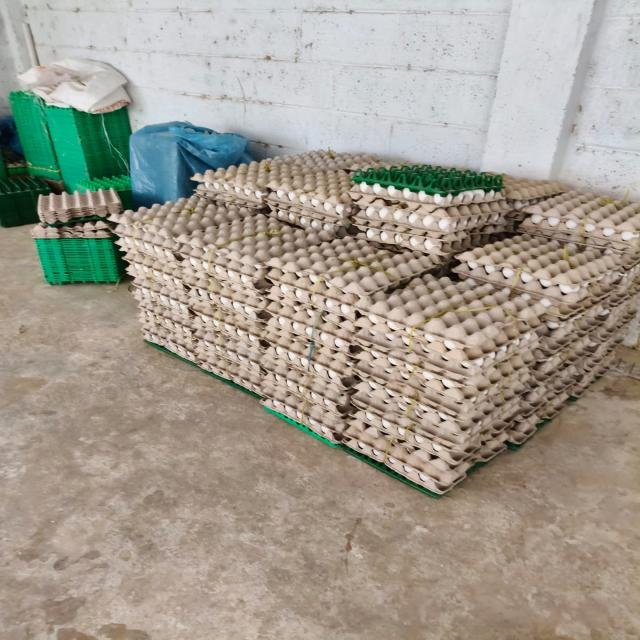egg_tray: (265, 240, 401, 441), (267, 240, 430, 388), (261, 241, 366, 441), (185, 229, 305, 392), (343, 390, 534, 492), (123, 215, 309, 317), (115, 197, 246, 326), (354, 350, 529, 443), (356, 278, 543, 361), (261, 280, 354, 442), (140, 276, 263, 392), (521, 296, 636, 420), (521, 298, 636, 421), (261, 289, 353, 441), (347, 392, 518, 472), (134, 286, 263, 392), (183, 226, 324, 320), (268, 237, 435, 311), (454, 234, 630, 303), (350, 176, 565, 232), (353, 378, 527, 447), (354, 399, 539, 463), (530, 286, 636, 396), (342, 423, 506, 494), (354, 328, 539, 389), (200, 227, 321, 319), (353, 332, 540, 391), (344, 420, 506, 488), (352, 385, 520, 450), (354, 390, 518, 456), (191, 150, 376, 208), (180, 225, 321, 300), (356, 347, 534, 406), (458, 235, 628, 295), (128, 260, 262, 330), (267, 283, 354, 390), (350, 398, 491, 464), (119, 237, 194, 360), (356, 367, 530, 420), (109, 196, 250, 261), (127, 254, 261, 322), (143, 318, 262, 394), (353, 198, 508, 256), (342, 425, 470, 494), (185, 214, 331, 274), (267, 237, 395, 305), (261, 346, 352, 441), (191, 277, 265, 393), (503, 260, 639, 322), (453, 262, 610, 315), (192, 150, 377, 194), (520, 342, 618, 422), (125, 250, 195, 362), (533, 305, 634, 382), (501, 266, 636, 321), (532, 308, 631, 383), (262, 360, 352, 441), (350, 192, 510, 237), (522, 192, 639, 251), (537, 291, 637, 359), (265, 299, 353, 376), (117, 195, 252, 242), (120, 227, 212, 294), (265, 280, 355, 348), (354, 214, 505, 254), (266, 166, 354, 232), (354, 223, 502, 262), (166, 283, 263, 342), (170, 207, 282, 258), (354, 198, 508, 235), (534, 354, 614, 423), (224, 218, 332, 268), (266, 300, 354, 360), (261, 383, 347, 444), (263, 362, 352, 420), (265, 326, 353, 384), (261, 384, 347, 443), (133, 286, 198, 364), (353, 160, 502, 194), (534, 330, 623, 386), (133, 280, 197, 355), (525, 190, 637, 232), (266, 165, 353, 219), (349, 184, 505, 214), (261, 348, 356, 397), (191, 158, 283, 207), (267, 150, 379, 190), (264, 326, 353, 376), (185, 264, 264, 320), (265, 331, 353, 381), (267, 184, 355, 234), (191, 158, 282, 206), (193, 284, 268, 342), (267, 270, 354, 319), (169, 205, 268, 248), (261, 345, 354, 390), (517, 225, 639, 259), (196, 333, 263, 394), (196, 333, 262, 394), (532, 336, 615, 384), (349, 181, 504, 206), (192, 300, 267, 351), (115, 234, 183, 290), (270, 149, 379, 182), (537, 300, 611, 348), (571, 333, 623, 397), (354, 221, 468, 250), (178, 260, 259, 300), (139, 310, 199, 364), (136, 292, 197, 345), (525, 190, 606, 229), (192, 278, 267, 320), (192, 306, 266, 348), (37, 188, 122, 224), (503, 175, 566, 220), (132, 278, 192, 325), (506, 190, 583, 224), (199, 356, 262, 395), (125, 250, 186, 290), (519, 380, 572, 424), (38, 189, 121, 217), (270, 207, 350, 236), (603, 264, 639, 324), (535, 318, 586, 360), (142, 327, 198, 363), (194, 184, 266, 210), (145, 325, 195, 360), (532, 385, 576, 424), (469, 211, 518, 246), (503, 174, 566, 201), (463, 219, 517, 250), (469, 212, 517, 246), (31, 220, 113, 238), (474, 212, 518, 243), (346, 154, 405, 176), (48, 220, 113, 238), (505, 416, 539, 444), (412, 365, 453, 388), (506, 201, 534, 228), (407, 476, 447, 492), (432, 358, 458, 378), (253, 327, 281, 344), (506, 208, 526, 229), (513, 421, 534, 441), (406, 260, 430, 277), (5, 156, 27, 174), (586, 367, 607, 385), (459, 272, 487, 282), (492, 415, 509, 430), (458, 362, 479, 374), (149, 222, 164, 234), (333, 172, 348, 181), (361, 267, 374, 276), (388, 357, 401, 366), (357, 351, 366, 363), (581, 310, 590, 320), (589, 323, 599, 332), (523, 349, 531, 360), (199, 320, 210, 328), (449, 252, 461, 259), (360, 416, 370, 424), (459, 386, 469, 393), (481, 357, 491, 364), (398, 351, 405, 359), (201, 311, 206, 322), (494, 446, 503, 452), (452, 444, 459, 451), (577, 389, 585, 395), (118, 225, 124, 233), (474, 240, 482, 246), (142, 256, 151, 261), (422, 352, 428, 359), (266, 393, 275, 397), (160, 331, 166, 337), (556, 398, 563, 403), (349, 264, 356, 269), (143, 232, 150, 237), (407, 434, 412, 441), (543, 325, 548, 332), (585, 308, 593, 312), (302, 384, 306, 392), (172, 302, 178, 307), (405, 369, 410, 375), (607, 272, 613, 277), (612, 206, 619, 210), (500, 437, 507, 441), (507, 203, 511, 210), (615, 302, 622, 306), (365, 420, 370, 425), (206, 307, 211, 312), (432, 343, 440, 346), (231, 377, 237, 381), (165, 237, 173, 240), (363, 411, 370, 414), (307, 234, 312, 238), (195, 308, 199, 313), (150, 227, 155, 231), (274, 314, 279, 318), (292, 184, 297, 188), (574, 374, 579, 378), (265, 364, 269, 369), (385, 420, 390, 424), (623, 215, 628, 219), (297, 230, 303, 233), (594, 316, 597, 322), (210, 283, 213, 289), (531, 380, 534, 386), (225, 270, 228, 276), (479, 384, 483, 388), (293, 282, 297, 286), (267, 184, 271, 188), (195, 240, 199, 244), (235, 305, 239, 309), (518, 362, 522, 366), (501, 433, 505, 437), (189, 356, 194, 359), (160, 290, 165, 293), (512, 354, 517, 357), (372, 419, 377, 422), (234, 318, 237, 323), (217, 283, 219, 289), (181, 237, 185, 240), (173, 327, 179, 329), (179, 262, 183, 265), (147, 286, 150, 290), (335, 316, 341, 318), (436, 354, 439, 358), (375, 352, 379, 355), (273, 370, 276, 374), (178, 350, 181, 354), (317, 238, 321, 241), (55, 220, 66, 221), (212, 266, 214, 271), (417, 438, 419, 443), (391, 433, 396, 435), (175, 267, 180, 269), (319, 174, 324, 176), (396, 260, 401, 262), (299, 184, 301, 189), (140, 287, 143, 290), (377, 425, 380, 428), (361, 416, 364, 419), (347, 370, 350, 373), (162, 231, 165, 234), (454, 447, 457, 450), (182, 248, 185, 251), (299, 188, 302, 191), (566, 286, 569, 289), (339, 291, 341, 295), (339, 411, 343, 413), (228, 325, 232, 327), (143, 212, 147, 214), (179, 350, 181, 354), (134, 292, 138, 294), (489, 230, 493, 232), (287, 287, 289, 291), (165, 238, 172, 239), (557, 384, 560, 386), (543, 315, 545, 318), (610, 201, 613, 203), (361, 156, 364, 158), (539, 330, 542, 332), (553, 323, 555, 326), (231, 329, 233, 332), (537, 402, 540, 404), (243, 384, 246, 386), (405, 256, 407, 259), (385, 256, 388, 258), (423, 431, 426, 433), (172, 348, 175, 350), (571, 286, 573, 289), (230, 300, 235, 301), (367, 225, 372, 226), (257, 334, 259, 336), (454, 269, 456, 271), (534, 288, 536, 290), (348, 294, 352, 295), (283, 305, 285, 307), (160, 293, 162, 295), (245, 229, 247, 231), (502, 438, 506, 439), (243, 210, 245, 212), (514, 442, 518, 443), (547, 280, 549, 282), (400, 434, 403, 435), (545, 354, 548, 355), (239, 382, 242, 383), (225, 368, 226, 371), (172, 349, 175, 350), (587, 363, 588, 366), (427, 372, 430, 373), (412, 363, 415, 364), (501, 352, 502, 355), (152, 340, 154, 341), (476, 278, 478, 279), (461, 274, 463, 275), (314, 339, 315, 341), (472, 396, 474, 397), (241, 329, 243, 330), (212, 316, 214, 317), (212, 317, 214, 318), (628, 283, 630, 284), (248, 229, 250, 230), (130, 230, 132, 231), (182, 336, 183, 338), (209, 313, 211, 314), (147, 284, 148, 286), (497, 451, 499, 452), (363, 352, 365, 353), (311, 426, 312, 428), (390, 423, 392, 424), (251, 336, 253, 337), (528, 274, 530, 275), (435, 235, 436, 236), (478, 383, 479, 384), (514, 341, 515, 342), (564, 398, 565, 399), (465, 441, 466, 442), (216, 349, 217, 350), (147, 327, 148, 328), (272, 381, 273, 382), (387, 276, 388, 277), (458, 405, 459, 406), (594, 374, 595, 375), (480, 394, 481, 395), (207, 238, 208, 239), (14, 155, 15, 156), (354, 447, 355, 448), (612, 325, 613, 326), (458, 254, 459, 255), (185, 323, 186, 323), (401, 336, 401, 337), (538, 221, 538, 221), (371, 432, 373, 432), (623, 256, 623, 258), (321, 260, 321, 262), (201, 251, 201, 253), (541, 328, 541, 328), (214, 347, 214, 348), (245, 230, 246, 230), (234, 327, 234, 328), (525, 414, 527, 414), (270, 274, 270, 275), (172, 282, 172, 284), (405, 425, 405, 426), (418, 361, 419, 361), (278, 374, 279, 374), (372, 387, 372, 388), (403, 474, 405, 474), (254, 292, 254, 292), (254, 194, 255, 194)
